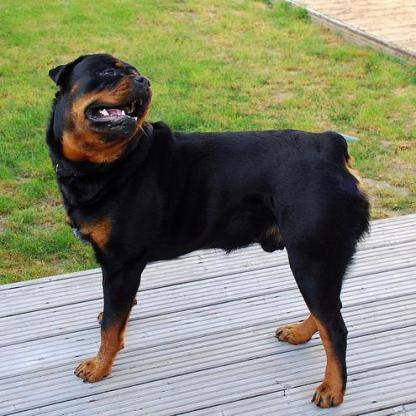Rottweiler: (38, 50, 373, 408)
